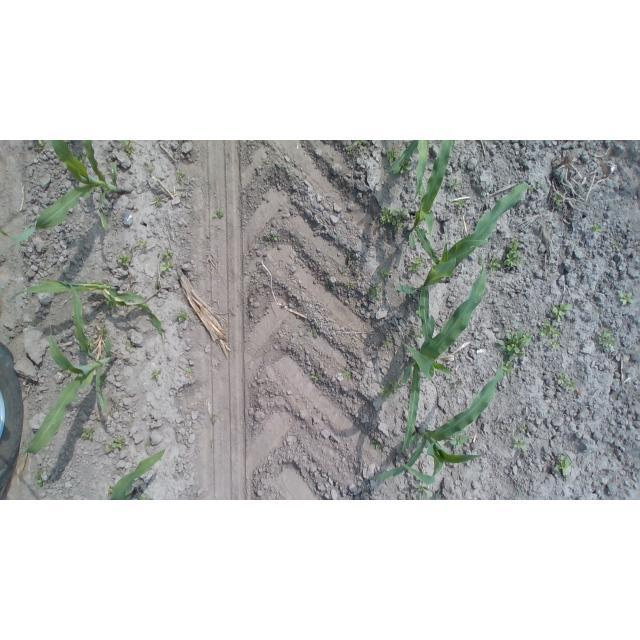Maize: (395, 183, 534, 346), (371, 356, 503, 486), (401, 251, 485, 454), (22, 279, 118, 455), (1, 140, 131, 244), (6, 278, 162, 338), (408, 140, 457, 264), (109, 448, 166, 500), (386, 140, 430, 202)
Weeds: (497, 328, 533, 359), (381, 205, 409, 233), (504, 236, 525, 268), (597, 328, 618, 353), (554, 453, 575, 478), (551, 301, 573, 324), (540, 318, 562, 339), (297, 322, 324, 339), (557, 373, 580, 392), (340, 254, 359, 275), (407, 254, 425, 273), (448, 435, 470, 450), (393, 158, 412, 175), (412, 482, 429, 500), (513, 436, 529, 453), (619, 291, 636, 306), (369, 284, 384, 301), (487, 257, 501, 275), (81, 426, 98, 440), (379, 383, 392, 401), (175, 309, 189, 324), (138, 488, 155, 500), (35, 470, 47, 487), (118, 253, 135, 265), (370, 437, 382, 452), (112, 436, 127, 448), (553, 190, 563, 207), (160, 261, 177, 271), (213, 206, 226, 219), (386, 149, 398, 163), (341, 368, 352, 383), (123, 141, 134, 156), (430, 488, 442, 501), (160, 247, 172, 260), (503, 361, 515, 373), (549, 339, 561, 350), (98, 325, 109, 337), (593, 222, 603, 235), (451, 379, 464, 389), (346, 280, 358, 290), (150, 369, 162, 379), (34, 140, 46, 150), (154, 196, 163, 209), (76, 152, 86, 163), (390, 380, 399, 392), (125, 343, 136, 352), (456, 200, 467, 209), (380, 267, 388, 279), (449, 181, 462, 188), (382, 338, 392, 347), (106, 443, 115, 453), (353, 141, 365, 148), (612, 240, 620, 250), (411, 330, 421, 338), (177, 170, 186, 178), (148, 161, 154, 172), (268, 234, 279, 240), (311, 374, 319, 382), (520, 423, 528, 431), (139, 240, 147, 248), (593, 307, 602, 314), (509, 428, 516, 437), (107, 301, 116, 308), (88, 338, 93, 350), (346, 149, 354, 156), (416, 307, 421, 318), (146, 438, 152, 447), (213, 419, 220, 426), (108, 486, 113, 495), (538, 181, 543, 188), (185, 368, 192, 373), (116, 409, 122, 414), (208, 183, 212, 190), (261, 240, 266, 244)
